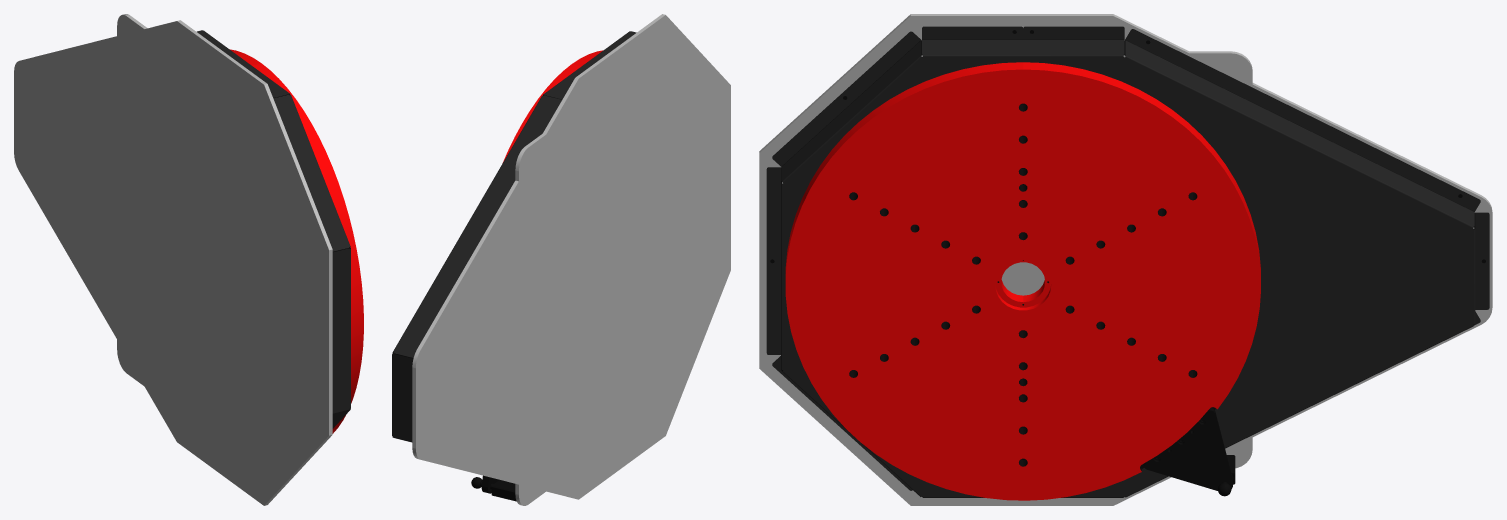
Rendered from Driver_Faceplate_P4.dae.
3 renders of one model, left to right at view 1: azimuth 30°, elevation 25°; view 2: azimuth 150°, elevation 25°; view 3: azimuth 270°, elevation 25°, orthographic. The views are drawn at different scales.
Visible parts, largest first — view 1: Node_000001C9CAEAAB60 (×3); view 2: Node_000001C9CAEAAB60 (×4); view 3: Node_000001C9CAEAAB60 (×4).
Boxes of the visible parts, left/top/right/bottom form: Node_000001C9CAEAAB60 (×3): left=14, top=14, right=363, bottom=505; Node_000001C9CAEAAB60 (×4): left=392, top=14, right=730, bottom=505; Node_000001C9CAEAAB60 (×4): left=759, top=14, right=1492, bottom=505.
Bounding box in the file's own units: 0.183 × 1.25 × 1.69.
